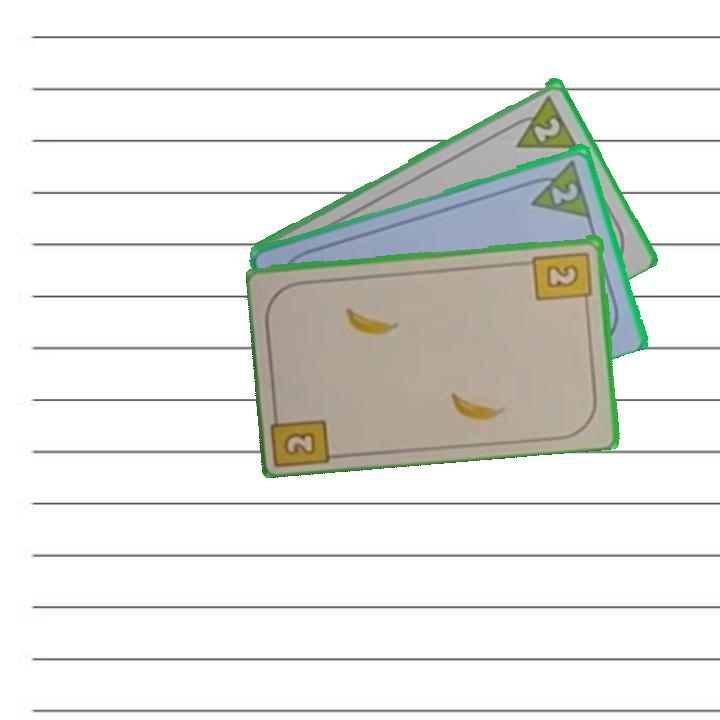2b: (270, 402, 336, 467), (530, 248, 595, 309)
2p: (503, 91, 580, 152), (522, 155, 594, 220)
